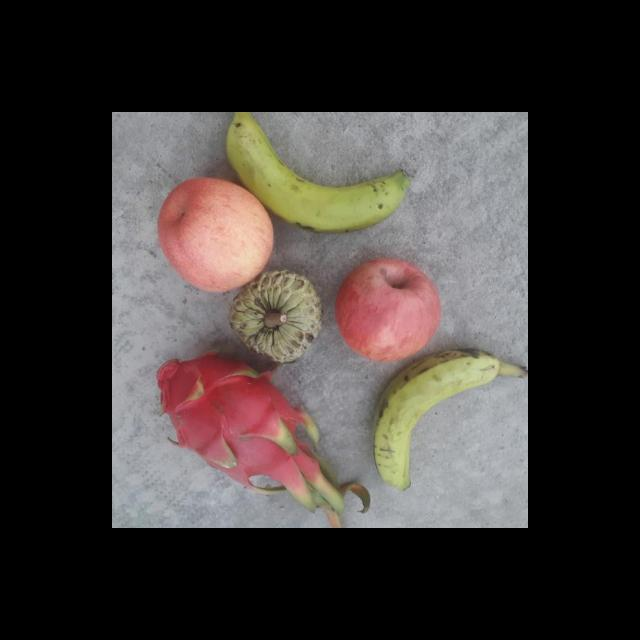Sakya fruit: (228, 270, 322, 364)
apple: (154, 177, 272, 297), (337, 258, 443, 364)
banana: (221, 113, 442, 235), (369, 349, 516, 495)
pitaya: (157, 349, 279, 488)
